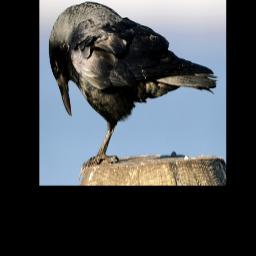Crow: (48, 0, 219, 181)
